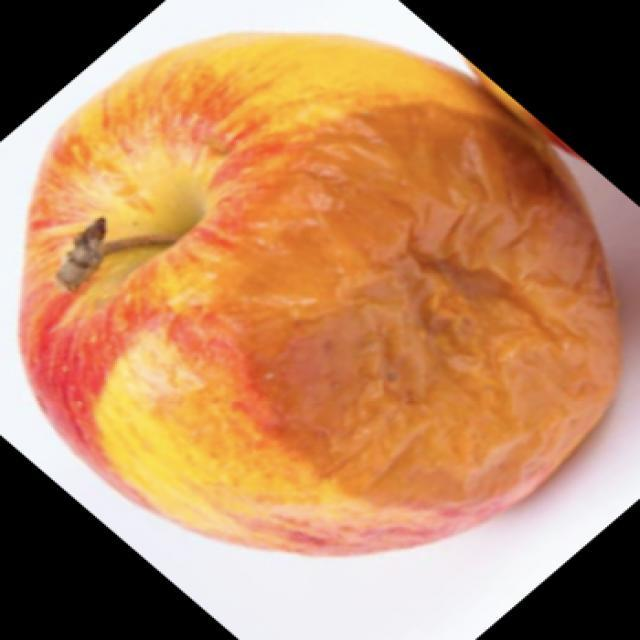Rotten: (34, 36, 618, 536)
